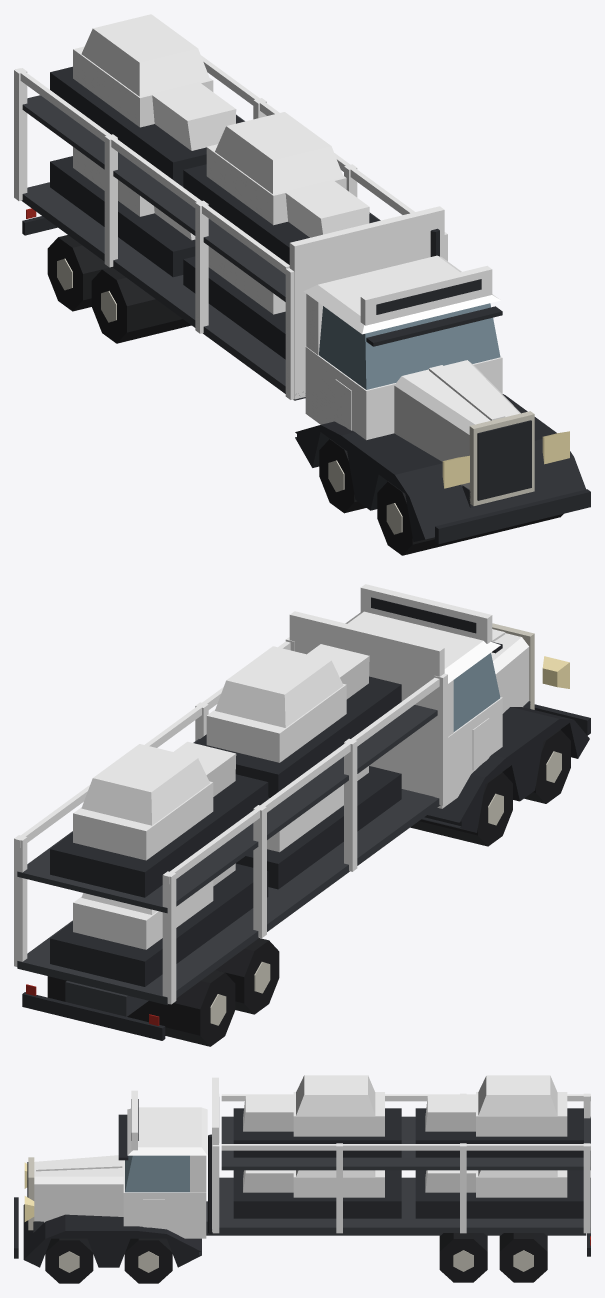
File: heavy_carrier.glb
The picture shows the model from 3 angles, top to bottom: view 1: azimuth 30°, elevation 25°; view 2: azimuth 150°, elevation 25°; view 3: azimuth 270°, elevation 25°; orthographic projection. The views are drawn at different scales.
Parts seen in each view (by area): view 1: model; view 2: model; view 3: model.
Part boxes in pixels (<box>): model: <box>14,14,590,555</box>; model: <box>14,584,590,1046</box>; model: <box>14,1075,590,1283</box>.
Bounding box in the file's own units: 2.7 × 3.95 × 12.
